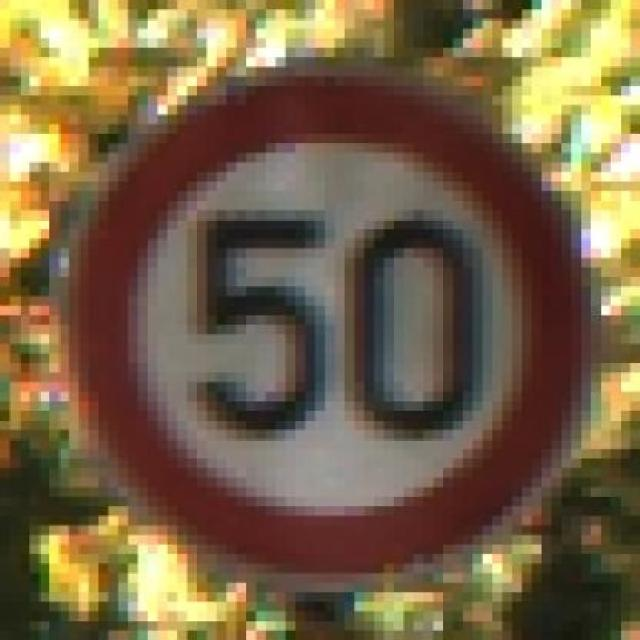forb_speed_over_50: (73, 76, 581, 575)
